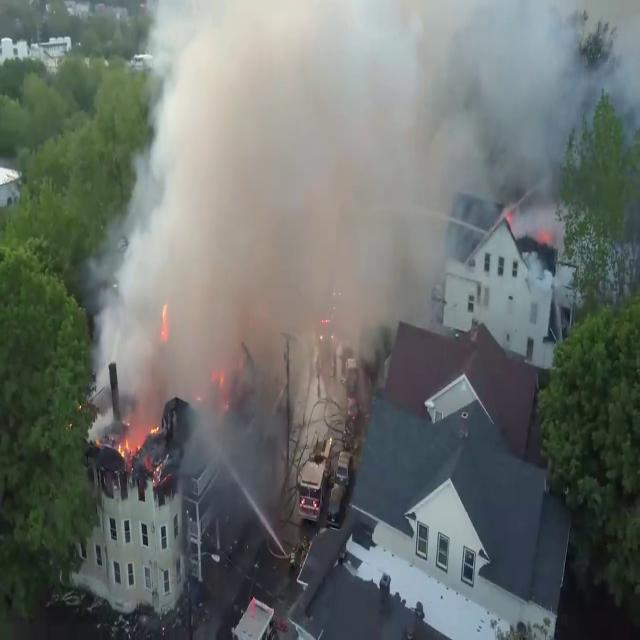Fire: (114, 417, 160, 467)
Smoke: (92, 0, 630, 494)
